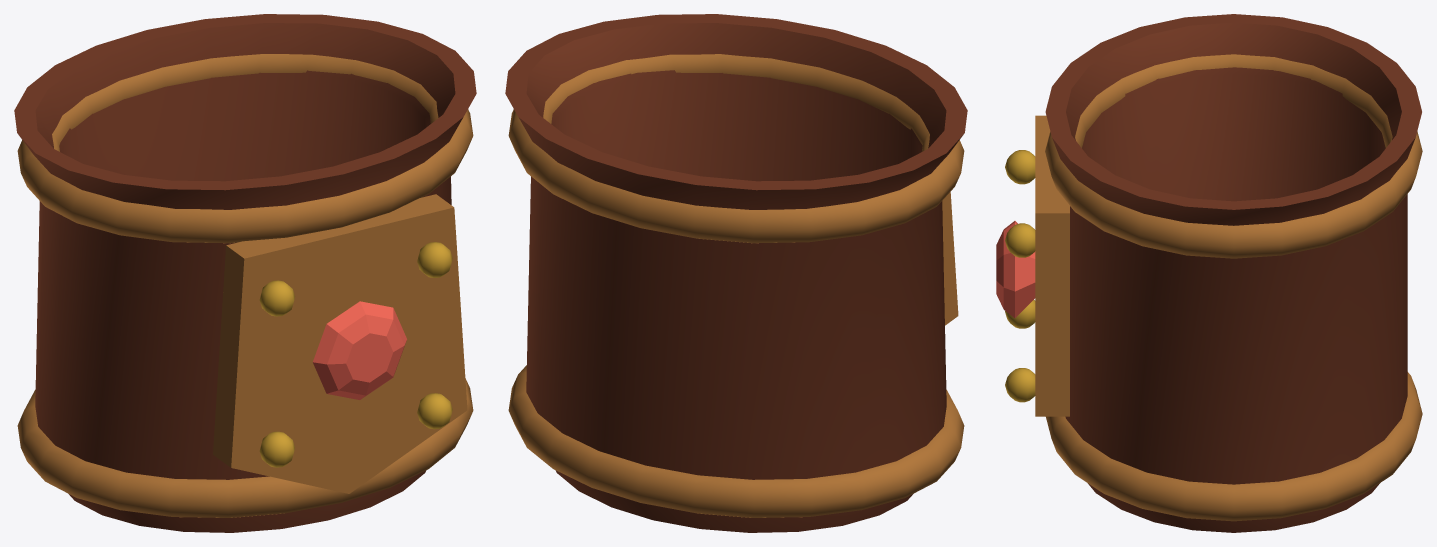
Rendered from acc_power_band.fbx.
The picture shows the model from 3 angles, left to right: view 1: azimuth 30°, elevation 25°; view 2: azimuth 150°, elevation 25°; view 3: azimuth 270°, elevation 25°; orthographic projection. The views are drawn at different scales.
Visible parts, largest first — view 1: acc_power_band; view 2: acc_power_band; view 3: acc_power_band.
Part boxes in pixels (x1,y1,x2,y2): acc_power_band: (14,14,476,532); acc_power_band: (505,14,967,532); acc_power_band: (996,14,1422,532).
Size of the model in its own units: 0.32 by 0.26 by 0.2943.
